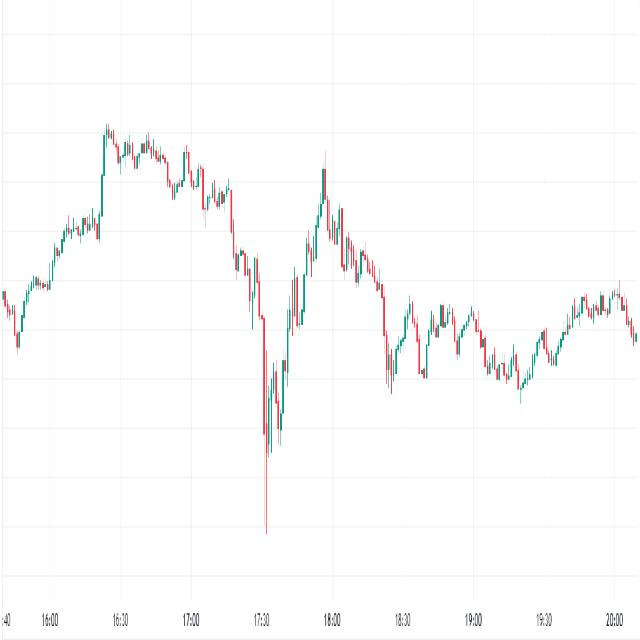Double-Bottom: (257, 354, 293, 460)
Head-Shoulders: (302, 145, 346, 281)
rectangle: (394, 297, 489, 382)
